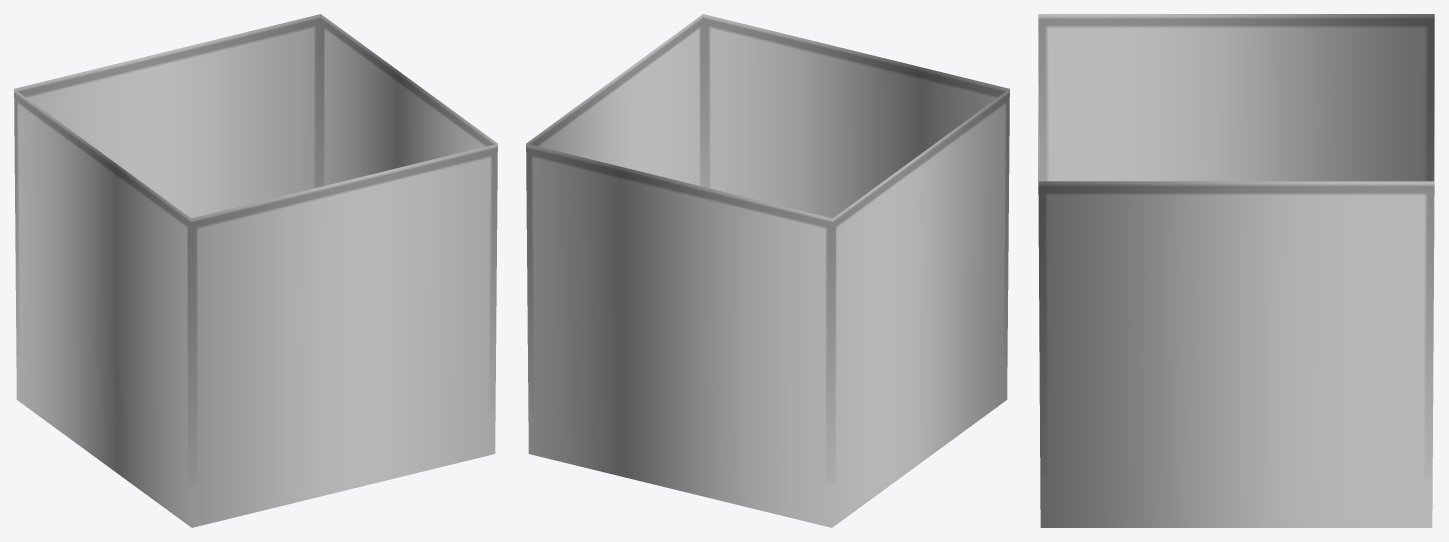
File: UnitSelector.fbx
3 renders of one model, left to right at view 1: azimuth 30°, elevation 25°; view 2: azimuth 150°, elevation 25°; view 3: azimuth 270°, elevation 25°, orthographic. The views are drawn at different scales.
Visible parts, largest first — view 1: InnerShell, OuterShell; view 2: InnerShell, OuterShell; view 3: InnerShell, OuterShell.
Part boxes in pixels (box(x1,y1,x2,y2)): InnerShell: box(14, 14, 497, 527); OuterShell: box(14, 15, 497, 527); InnerShell: box(526, 14, 1009, 527); OuterShell: box(526, 14, 1009, 526); InnerShell: box(1038, 14, 1434, 527); OuterShell: box(1038, 14, 1434, 527).
Bounding box in the file's own units: 101 × 97.87 × 101.
1 material, 1 textured.
